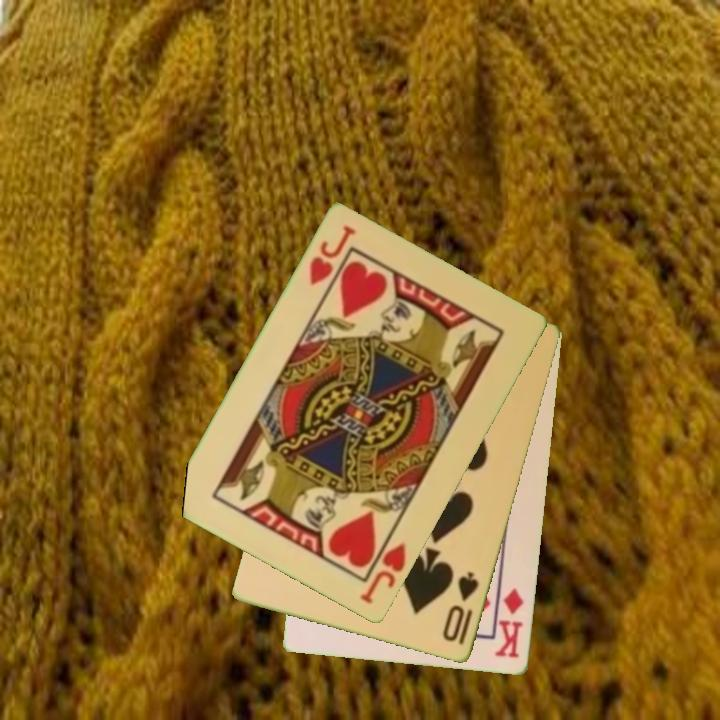10s: (439, 569, 482, 648)
Jh: (356, 539, 409, 608), (306, 222, 359, 290)
Kd: (492, 584, 527, 661)
